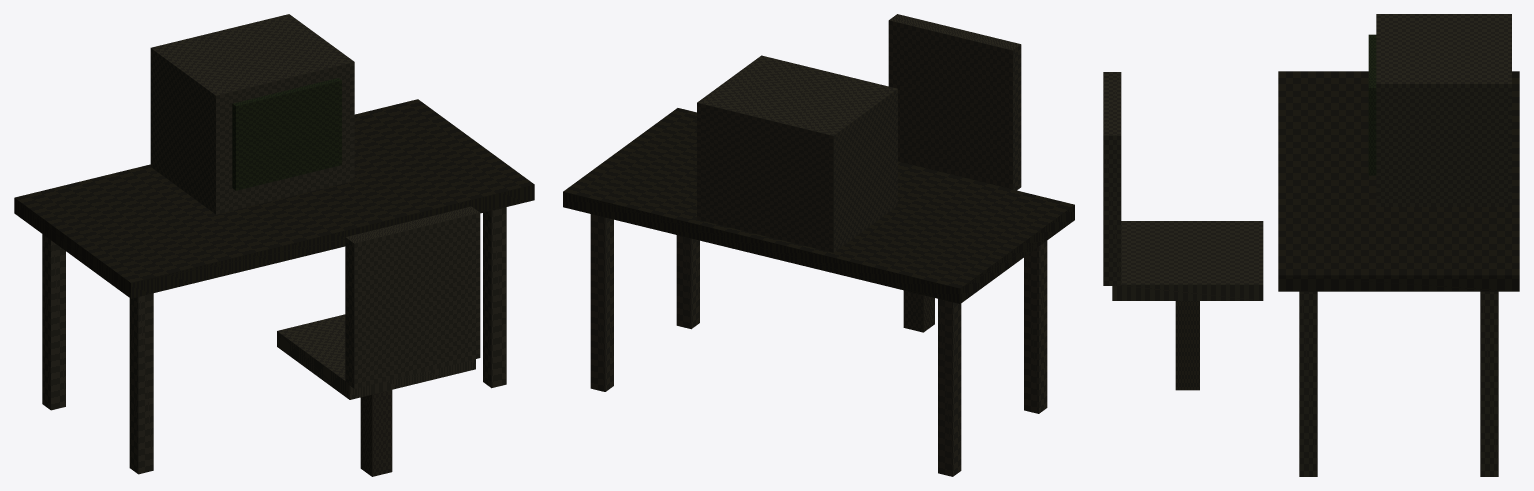
The model's file is desk_set.glb.
3 views of the same model, side by side, from view 1: azimuth 30°, elevation 25°; view 2: azimuth 150°, elevation 25°; view 3: azimuth 270°, elevation 25° (orthographic). The views are drawn at different scales.
Parts seen in each view (by area): view 1: desk_set; view 2: desk_set; view 3: desk_set.
Part boxes in pixels (bbox=[...]): desk_set: bbox=[14, 14, 534, 476]; desk_set: bbox=[563, 14, 1074, 476]; desk_set: bbox=[1103, 14, 1519, 476].
Size of the model in its own units: 1.6 by 1.23 by 1.38.
1 material, 1 textured.
